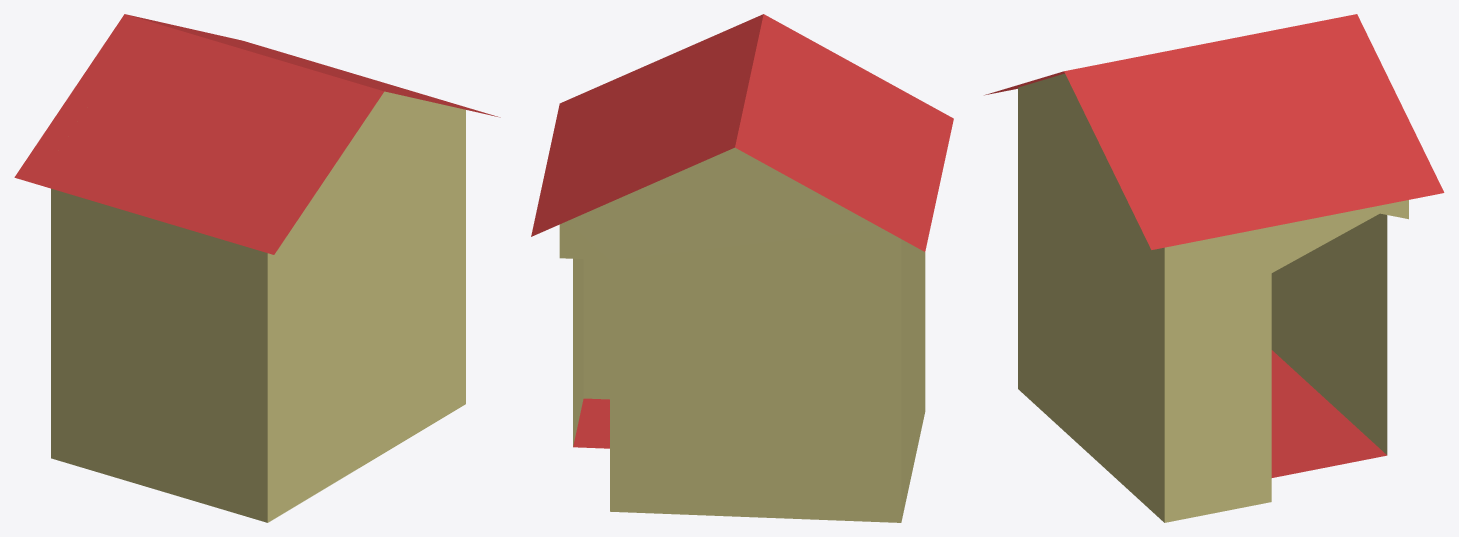
The picture shows the model from 3 angles, left to right: view 1: azimuth 30°, elevation 25°; view 2: azimuth 150°, elevation 25°; view 3: azimuth 270°, elevation 25°; orthographic projection.
Size of the model in its own units: 14.01 by 12.92 by 11.93.
